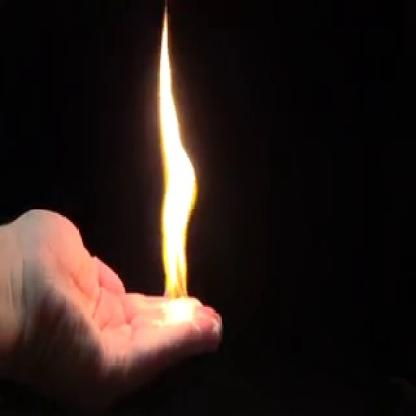fire: (149, 0, 200, 334)
